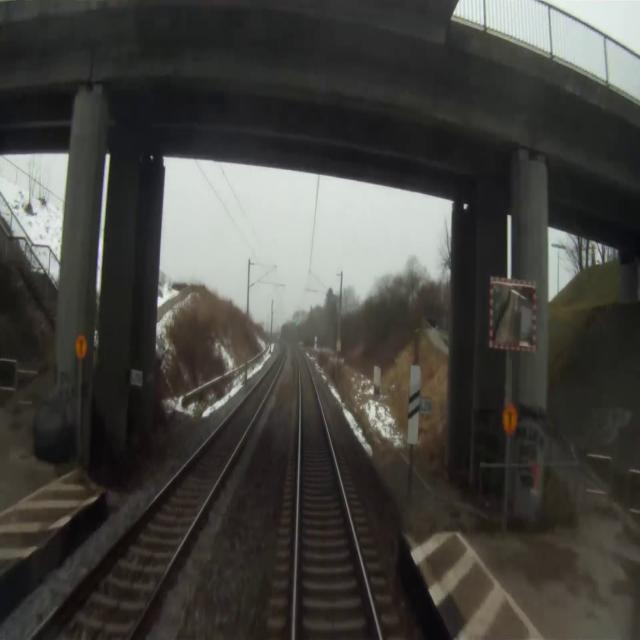rail-track: (33, 340, 284, 639), (295, 348, 378, 639)
